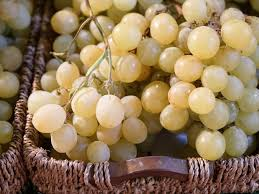Green grapes: (108, 3, 259, 152), (43, 48, 148, 170)
